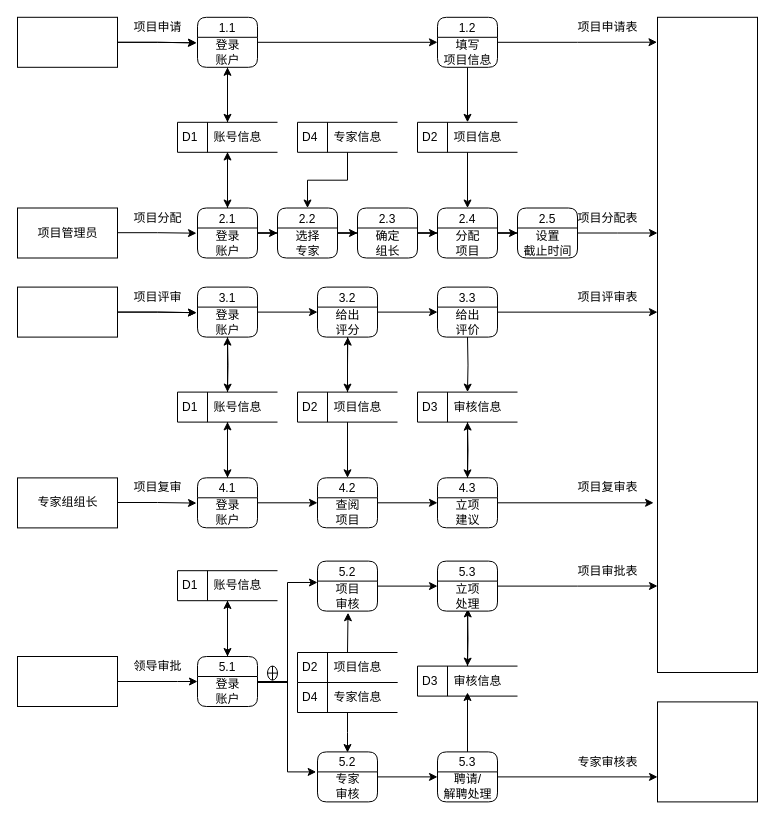
Image size: 775x830. Some labels were removed from this diagram. The shapes that lost their labels are listed below. From the top down, each one's centre as x and y in pixels, then its label:
point (67, 41): 项目负责人
point (67, 311): 专家组成员
point (707, 344): 项 目
point (67, 681): 项目领导
point (707, 751): 专 家
